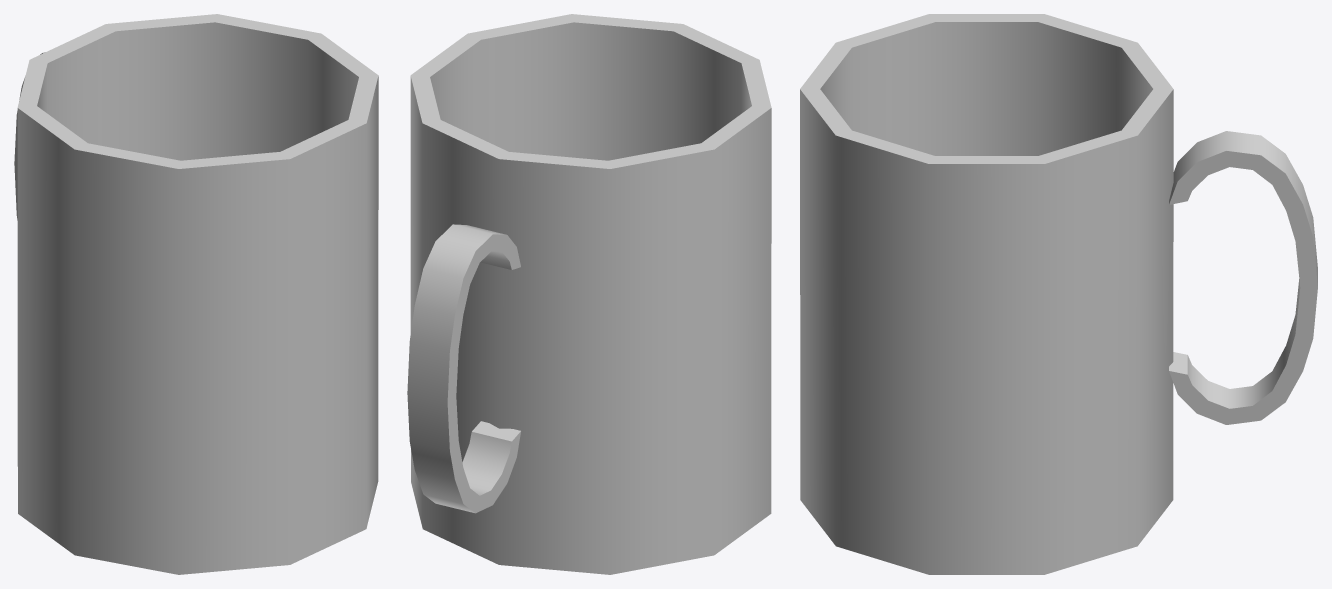
Rendered from Mug_01.fbx.
3 views of the same model, side by side, from view 1: azimuth 30°, elevation 25°; view 2: azimuth 150°, elevation 25°; view 3: azimuth 270°, elevation 25° (orthographic).
Visible parts, largest first — view 1: Mug_01; view 2: Mug_01; view 3: Mug_01.
Boxes of the visible parts, x1,y1,x2,y2 form: Mug_01: (14,14,378,574); Mug_01: (407,14,771,574); Mug_01: (800,14,1317,574).
Size of the model in its own units: 0.0915 by 0.1167 by 0.1334.
